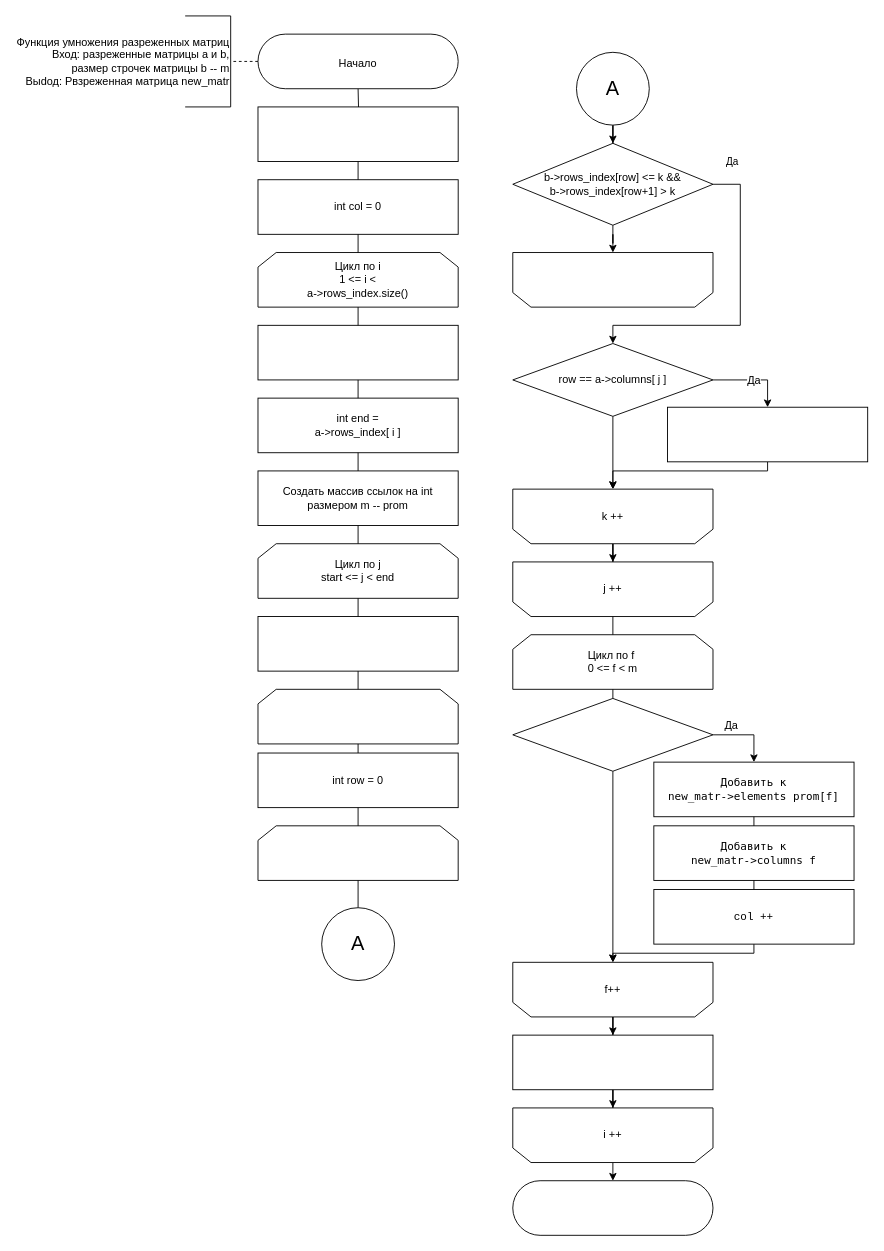
The diagram is 884 pixels wide and 1251 high, and some of its shapes have lost their labels. The shapes that lost their labels are listed below. From the top down, each one's centre as x and y in pixels, then its label:
the point at 357,134: Создать new_matr
the point at 612,279: row ++
the point at 357,352: int start = a->rows_index[i-1]
the point at 767,434: prom[b->columns[k]] += x * b->elements[k]
the point at 357,643: int x = j-й элемент матрицы a
the point at 357,716: Цикл по k по всем элементам матрицы b
the point at 612,734: prom[ f ] != 0
the point at 357,852: Цикл по row по b->rows_index.size()
the point at 612,1062: Добавить к new_matr->rows_index col
the point at 612,1207: Конец
